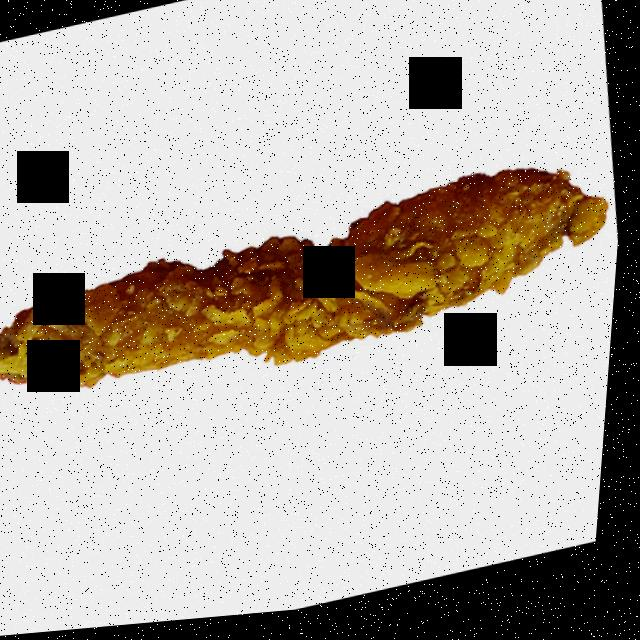Frango: (0, 134, 630, 458)
